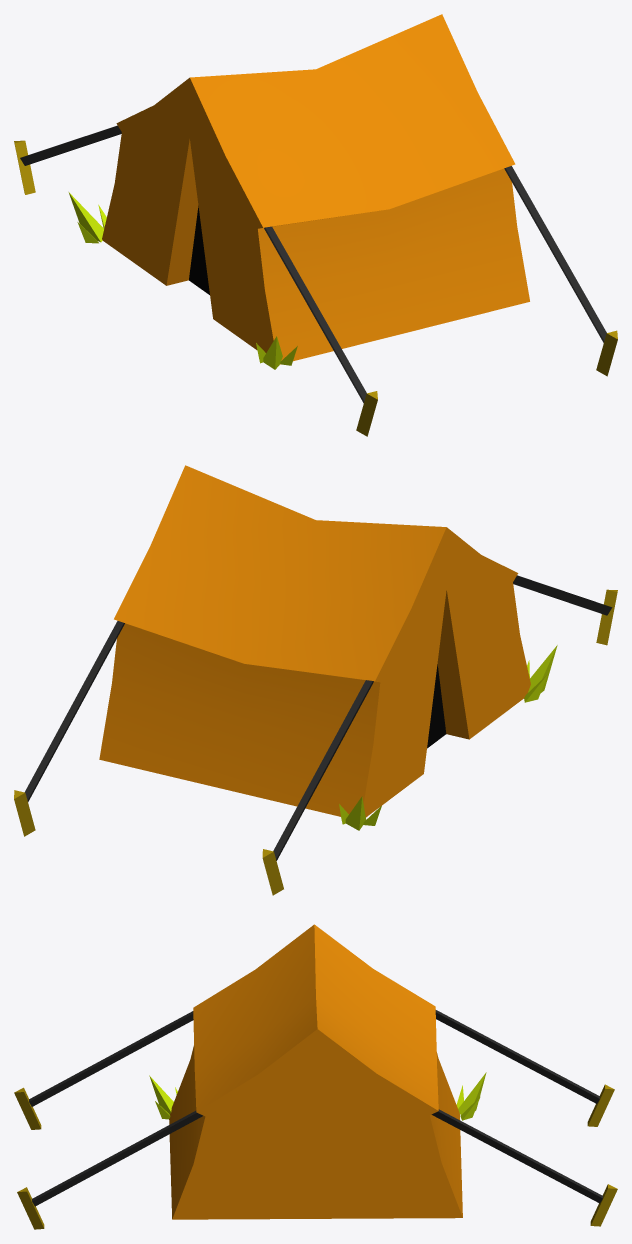
File: tent_2.fbx
3 renders of one model, top to bottom at view 1: azimuth 30°, elevation 25°; view 2: azimuth 150°, elevation 25°; view 3: azimuth 270°, elevation 25°, orthographic. The views are drawn at different scales.
Parts seen in each view (by area): view 1: tent_2; view 2: tent_2; view 3: tent_2.
Part boxes in pixels (bbox=[...]): tent_2: bbox=[14, 14, 617, 436]; tent_2: bbox=[14, 465, 617, 895]; tent_2: bbox=[14, 924, 617, 1229].
Size of the model in its own units: 377 by 305 by 829.
